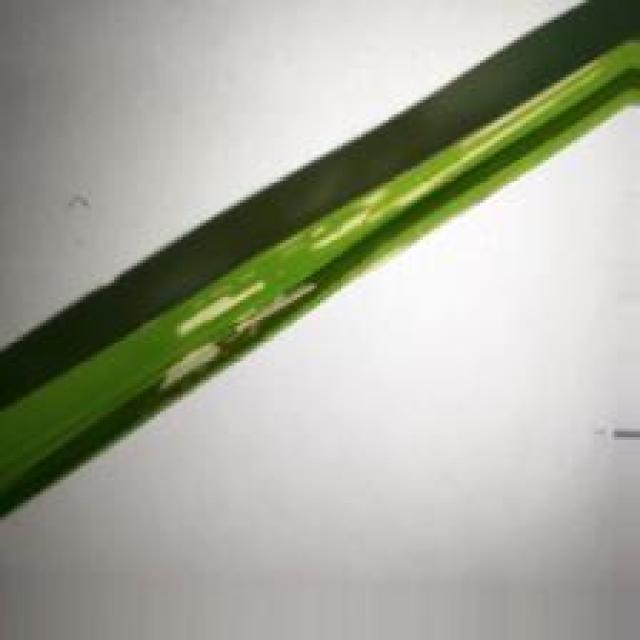Rice_Hispa: (300, 57, 603, 248), (180, 284, 262, 338), (163, 343, 228, 399), (240, 291, 323, 332)
